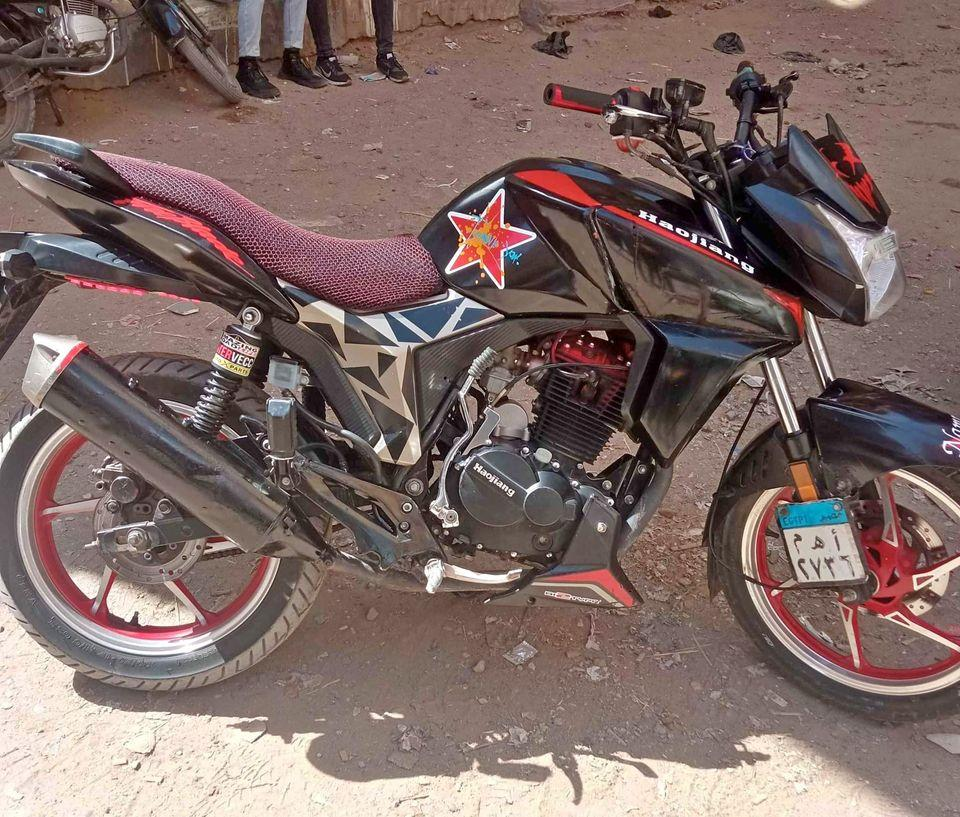License Plate: (780, 499, 870, 587)
